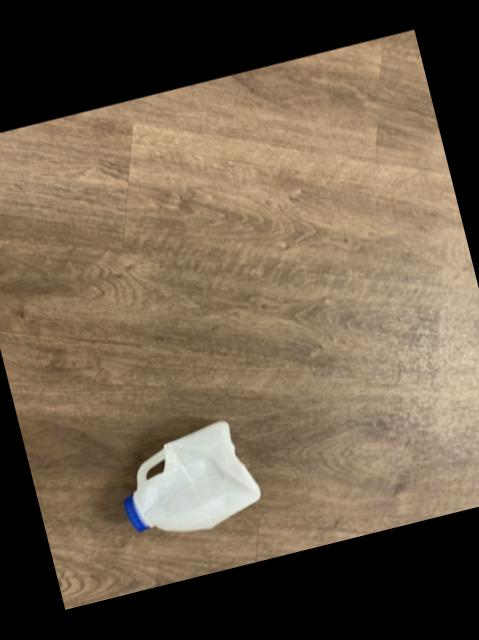plastic: (125, 420, 261, 530)
